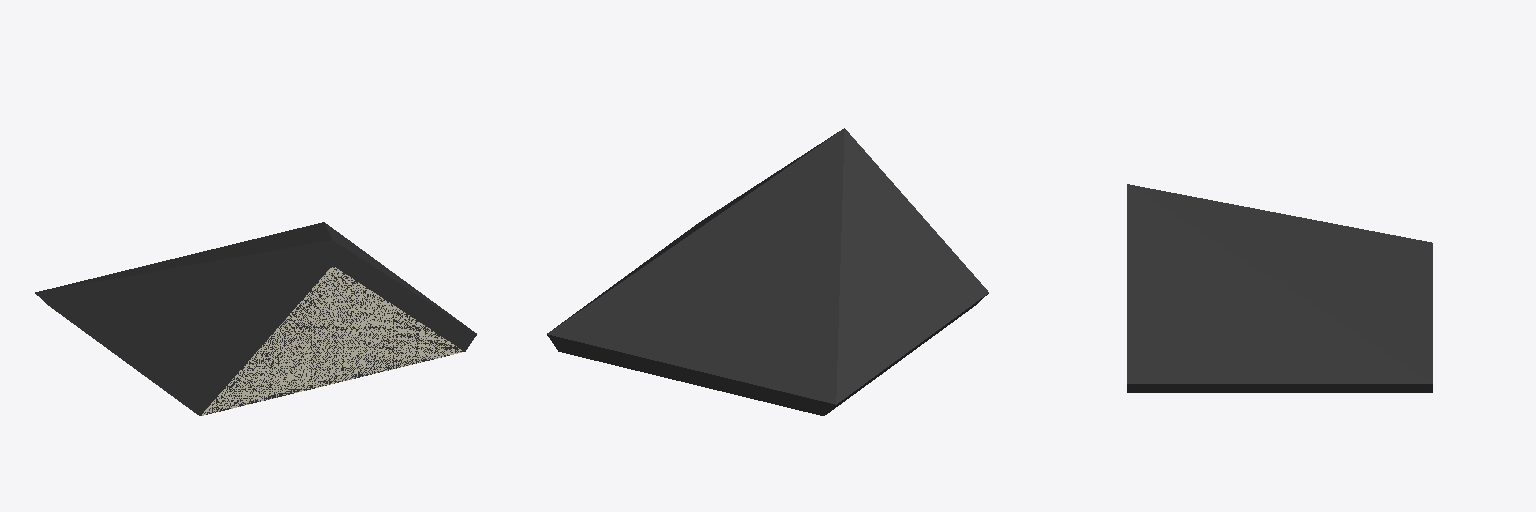
The model's file is modularBuildings_064.obj.
3 renders of one model, left to right at view 1: azimuth 30°, elevation 25°; view 2: azimuth 150°, elevation 25°; view 3: azimuth 270°, elevation 25°, orthographic.
Visible parts, largest first — view 1: Mesh1_Group1_Model.005; view 2: Mesh1_Group1_Model.005; view 3: Mesh1_Group1_Model.005.
Part boxes in pixels (bbox=[...]): Mesh1_Group1_Model.005: bbox=[35, 222, 476, 415]; Mesh1_Group1_Model.005: bbox=[547, 128, 988, 415]; Mesh1_Group1_Model.005: bbox=[1127, 184, 1432, 392].
Bounding box in the file's own units: 1.09 × 0.5188 × 1.